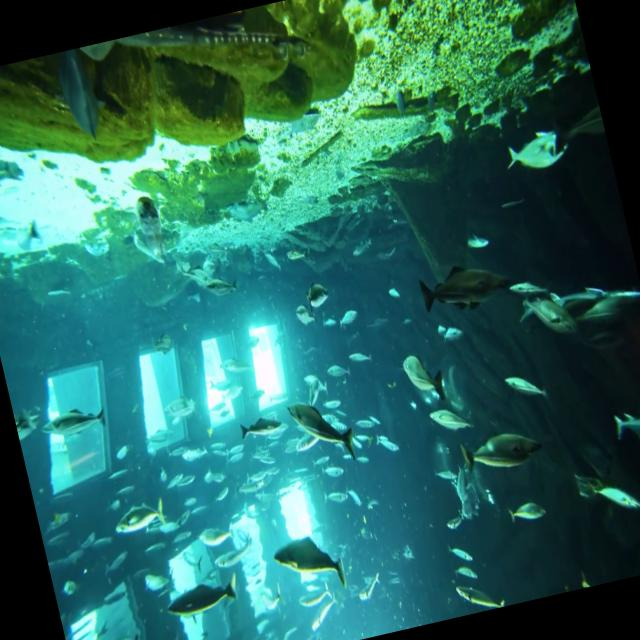fish: (415, 255, 512, 315), (286, 392, 358, 470), (272, 530, 349, 600), (456, 422, 546, 478), (512, 289, 578, 350), (501, 126, 575, 176), (164, 572, 242, 618), (398, 347, 451, 412), (112, 494, 172, 538), (609, 397, 640, 453), (237, 411, 284, 442), (503, 495, 548, 527)
